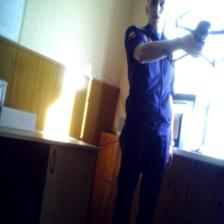drone: (159, 8, 224, 72)
